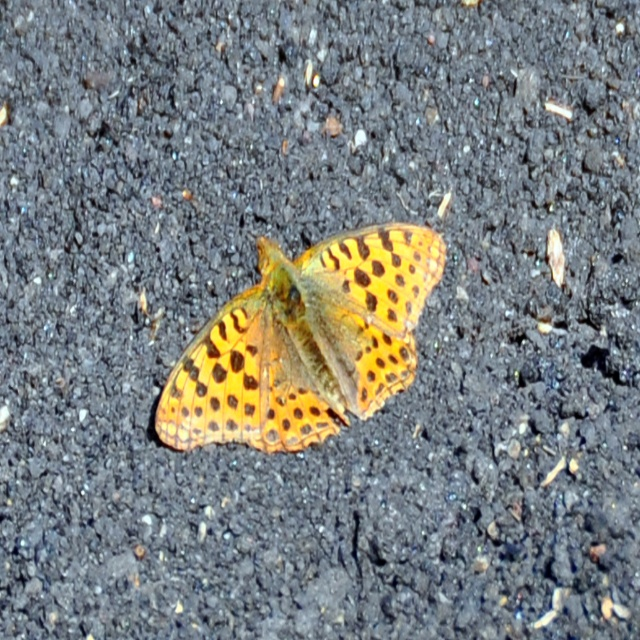Butterfly: (160, 214, 436, 485)
